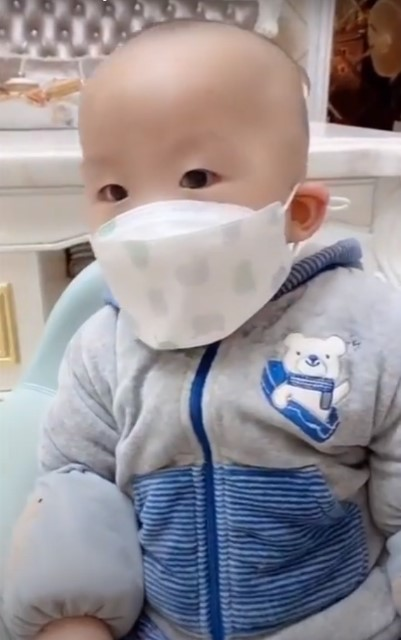face_with_mask: (75, 22, 329, 354)
